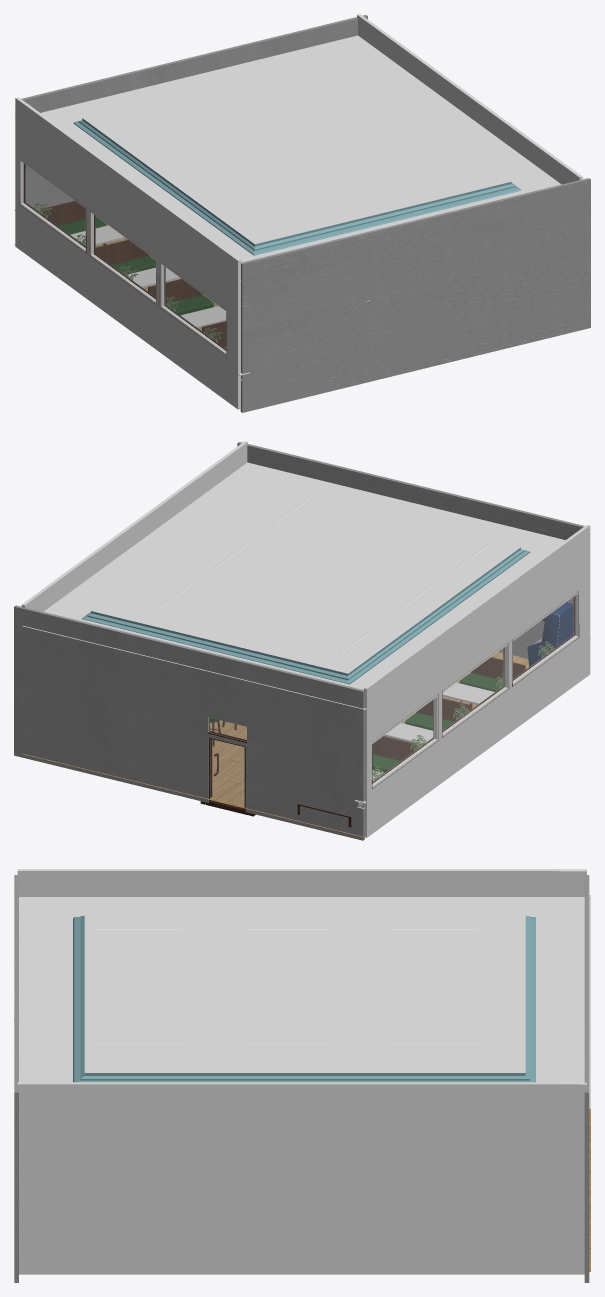
Rendered from food.glb.
The picture shows the model from 3 angles, top to bottom: view 1: azimuth 30°, elevation 25°; view 2: azimuth 150°, elevation 25°; view 3: azimuth 270°, elevation 25°; orthographic projection. The views are drawn at different scales.
Parts seen in each view (by area): view 1: Plane.009, Cube.004, Cube.085, Cube.096, Cube.079, Cube.086, Cube.020, Cylinder.024, Cube.005, Cube.105; view 2: Plane.009, Cube.079, Cube.085, Cube.096, Cube.004, Cube.086, Plane, Cube.083, Cube.020, arcade_machine1.003, Cylinder.024, Cube.084 (+2 smaller); view 3: Cube.086, Plane.009, Cube.085, Cube.079, Cube.004, Cube.105.
Boxes of the visible parts, box(x1,y1,x2,y2) form: Plane.009: box(14, 35, 561, 281); Cube.004: box(240, 178, 590, 412); Cube.085: box(15, 97, 241, 409); Cube.096: box(19, 158, 226, 356); Cube.079: box(21, 15, 367, 224); Cube.086: box(357, 14, 582, 184); Cube.020: box(41, 201, 202, 303); Cylinder.024: box(71, 225, 226, 328); Cube.005: box(166, 295, 213, 315); Cube.105: box(127, 80, 459, 234); Plane.009: box(22, 462, 565, 709); Cube.079: box(14, 605, 364, 840); Cube.085: box(364, 525, 590, 837); Cube.096: box(372, 591, 579, 788); Cube.004: box(237, 442, 584, 658); Cube.086: box(21, 441, 247, 611); Plane: box(22, 652, 528, 837); Cube.083: box(206, 732, 249, 815); Cube.020: box(297, 698, 470, 827); arcade_machine1.003: box(527, 601, 573, 666); Cylinder.024: box(372, 683, 494, 780); Cube.084: box(207, 717, 246, 743); Cube.086: box(17, 1082, 586, 1274); Plane.009: box(19, 895, 590, 1108); Cube.085: box(17, 869, 586, 896); Cube.079: box(584, 875, 589, 1282); Cube.004: box(14, 875, 18, 1282); Cube.105: box(95, 929, 478, 1043).
Size of the model in its own units: 11.73 by 4.92 by 13.02.
48 materials, 12 textured.
